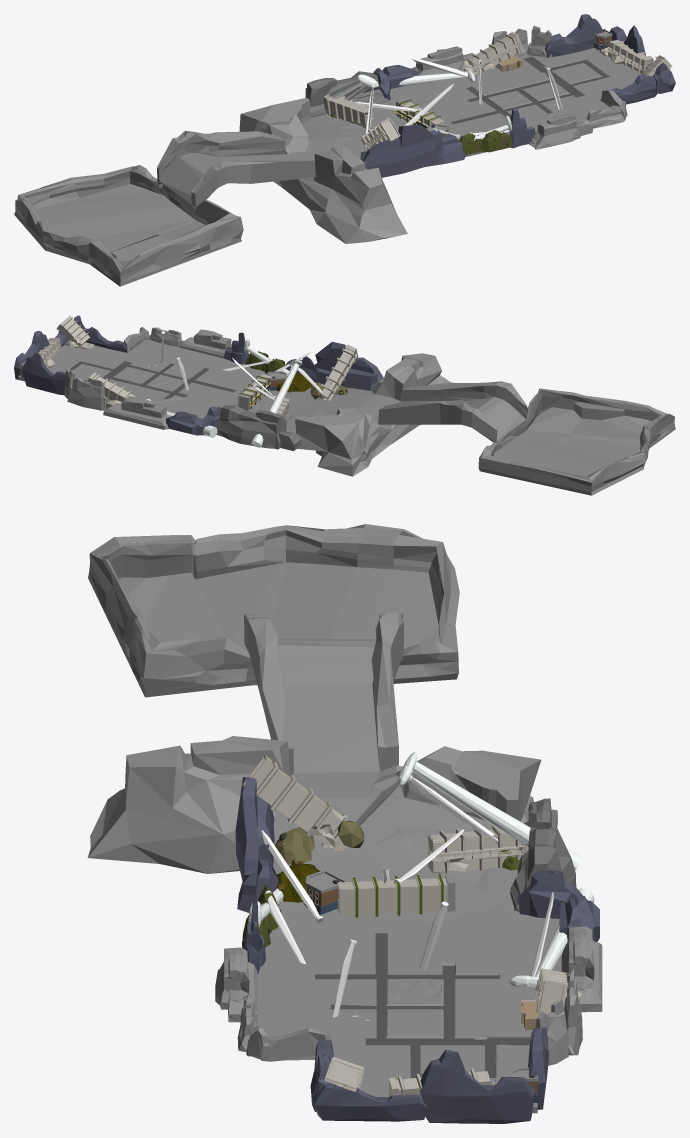
File: WIL_ThirdLevel_Border_Final_Buildings_On_level 1.fbx
3 views of the same model, one above another, from view 1: azimuth 30°, elevation 25°; view 2: azimuth 150°, elevation 25°; view 3: azimuth 270°, elevation 25° (orthographic). The views are drawn at different scales.
Visible parts, largest first — view 1: City Base; view 2: City Base; view 3: City Base.
Boxes of the visible parts, x1,y1,x2,y2 form: City Base: [14, 14, 675, 286]; City Base: [14, 315, 675, 495]; City Base: [87, 524, 602, 1123].
Bounding box in the file's own units: 270111 × 33113 × 105265.
